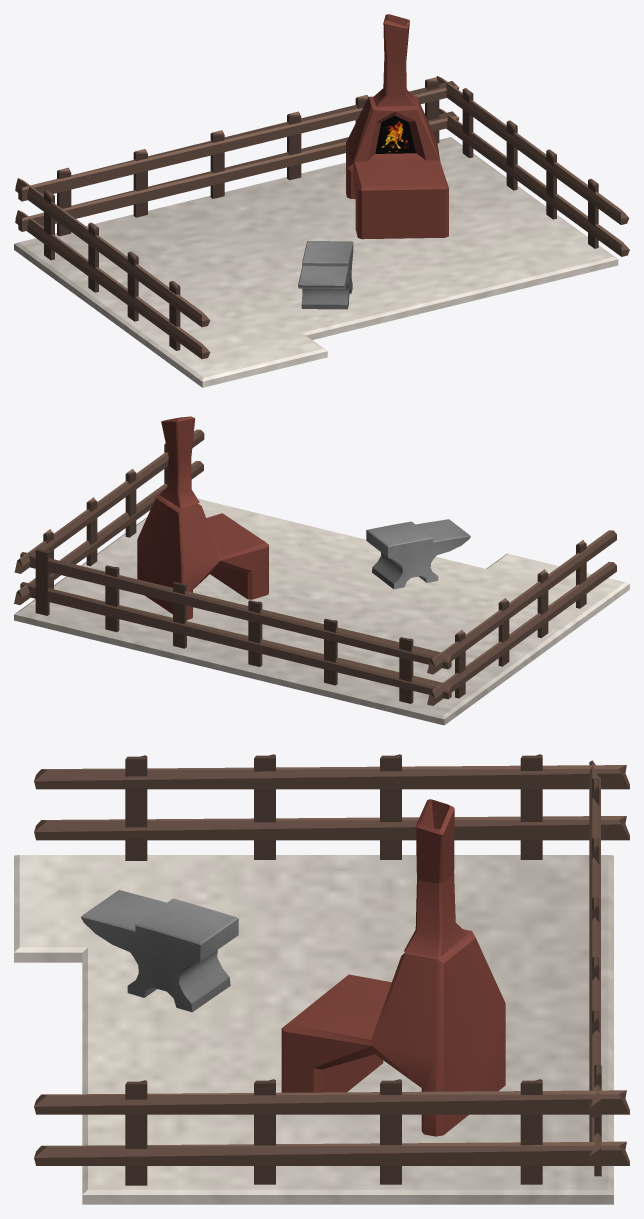
Rendered from blacksmith_0lvl.fbx.
3 views of the same model, one above another, from view 1: azimuth 30°, elevation 25°; view 2: azimuth 150°, elevation 25°; view 3: azimuth 270°, elevation 25° (orthographic). The views are drawn at different scales.
Visible parts, largest first — view 1: blacksmith_0lvl; view 2: blacksmith_0lvl; view 3: blacksmith_0lvl.
Part boxes in pixels (left/top/right/bottom): blacksmith_0lvl: left=14, top=14, right=629, bottom=387; blacksmith_0lvl: left=14, top=416, right=629, bottom=725; blacksmith_0lvl: left=14, top=754, right=629, bottom=1204.
Bounding box in the file's own units: 6.01 × 2.56 × 4.6.
1 material, 1 textured.
